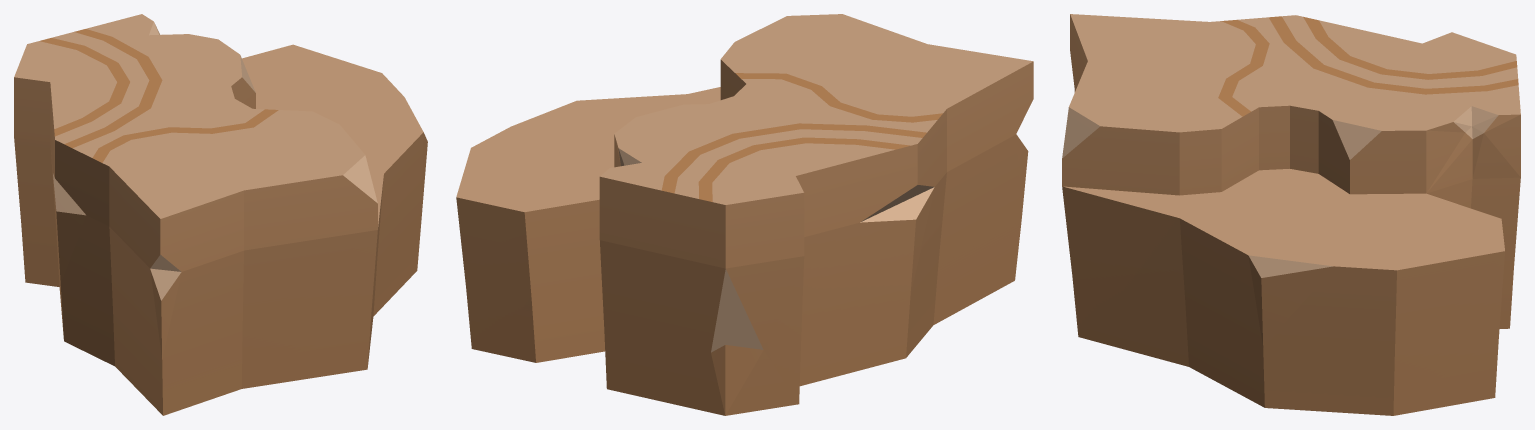
The model's file is ancient-stone-12.glb.
The picture shows the model from 3 angles, left to right: view 1: azimuth 30°, elevation 25°; view 2: azimuth 150°, elevation 25°; view 3: azimuth 270°, elevation 25°; orthographic projection. The views are drawn at different scales.
Parts seen in each view (by area): view 1: ancient stone 12; view 2: ancient stone 12; view 3: ancient stone 12.
Boxes of the visible parts, box(x1,y1,x2,y2) form: ancient stone 12: box(14, 14, 427, 415); ancient stone 12: box(456, 14, 1033, 415); ancient stone 12: box(1062, 14, 1520, 415).
Size of the model in its own units: 9.19 by 4.76 by 9.22.
1 material, 1 textured.
